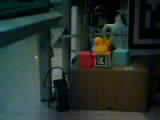duck: (86, 27, 116, 60)
